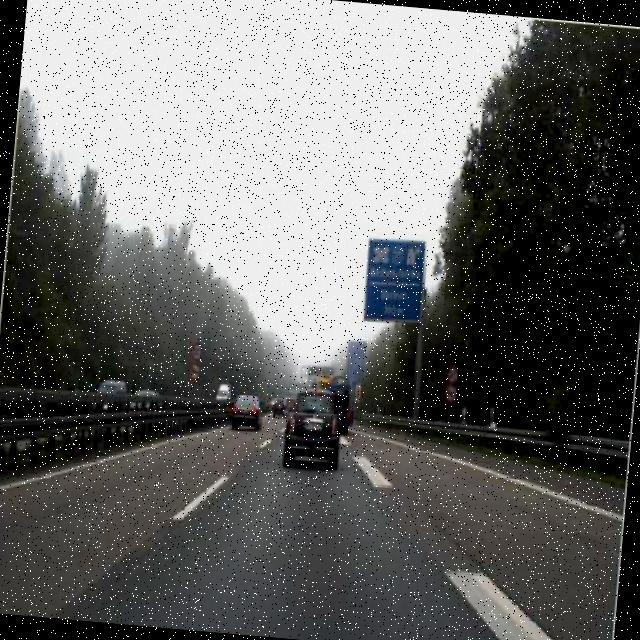Ograniczenie predkosci do 120: (444, 362, 459, 386), (189, 340, 203, 362)
Zakaz wyprzedzania: (187, 361, 203, 384), (443, 383, 457, 406)
